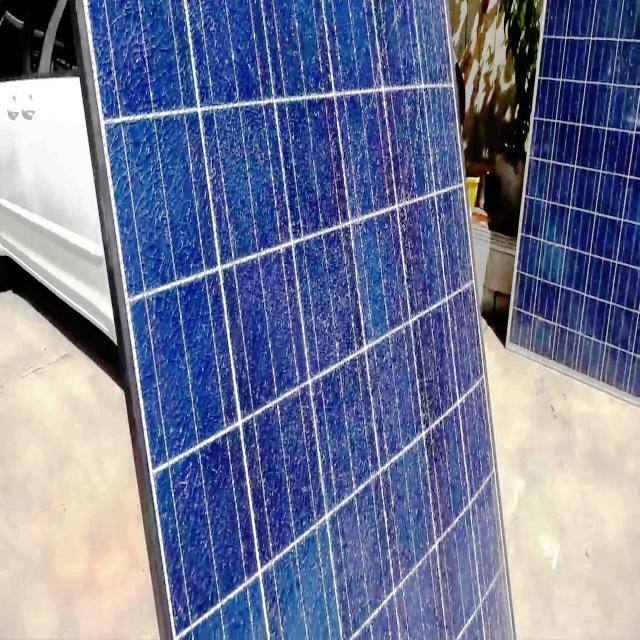faulty: (86, 0, 516, 640), (508, 0, 639, 403)
